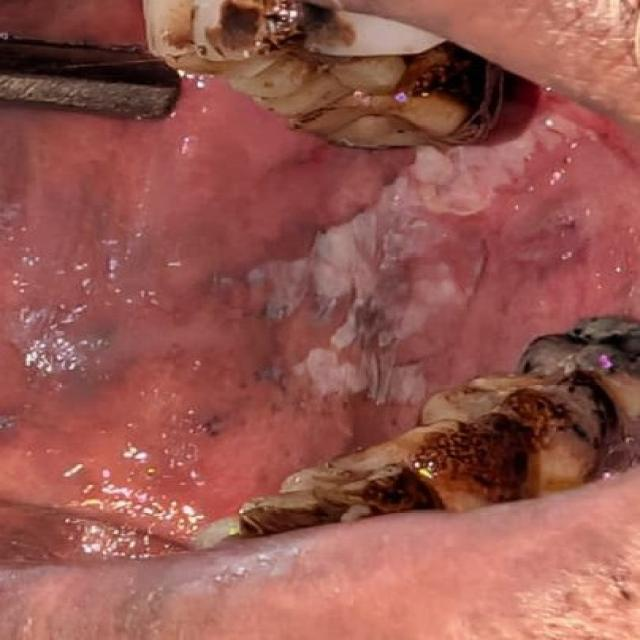leukoplakia-detection: (190, 101, 638, 437), (0, 192, 175, 448)
processing_area: (1, 76, 638, 576)
